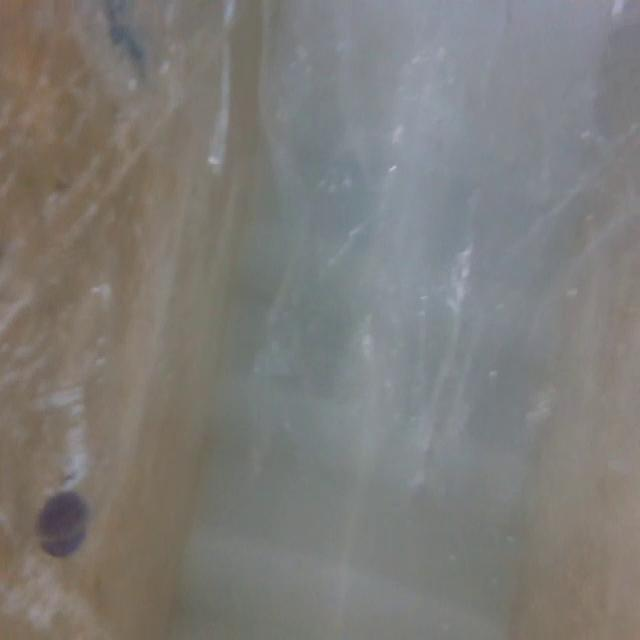plastic bags: (261, 0, 639, 530), (76, 0, 251, 185)
plastic bottle: (0, 149, 134, 581)
